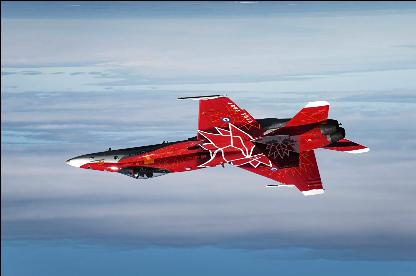F15: (63, 93, 367, 194)
